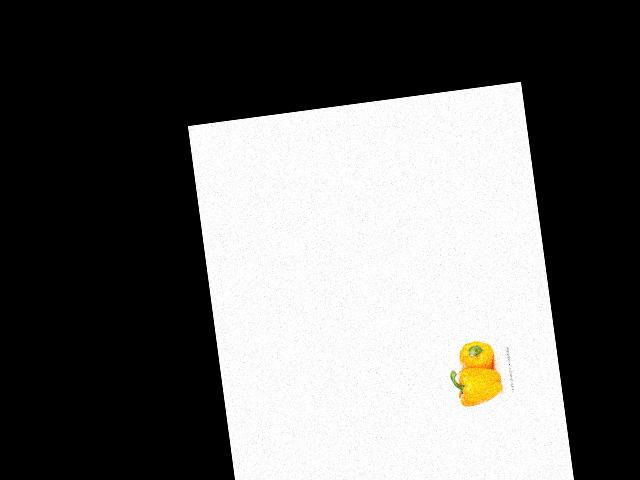bell_pepper: (454, 338, 497, 374)
